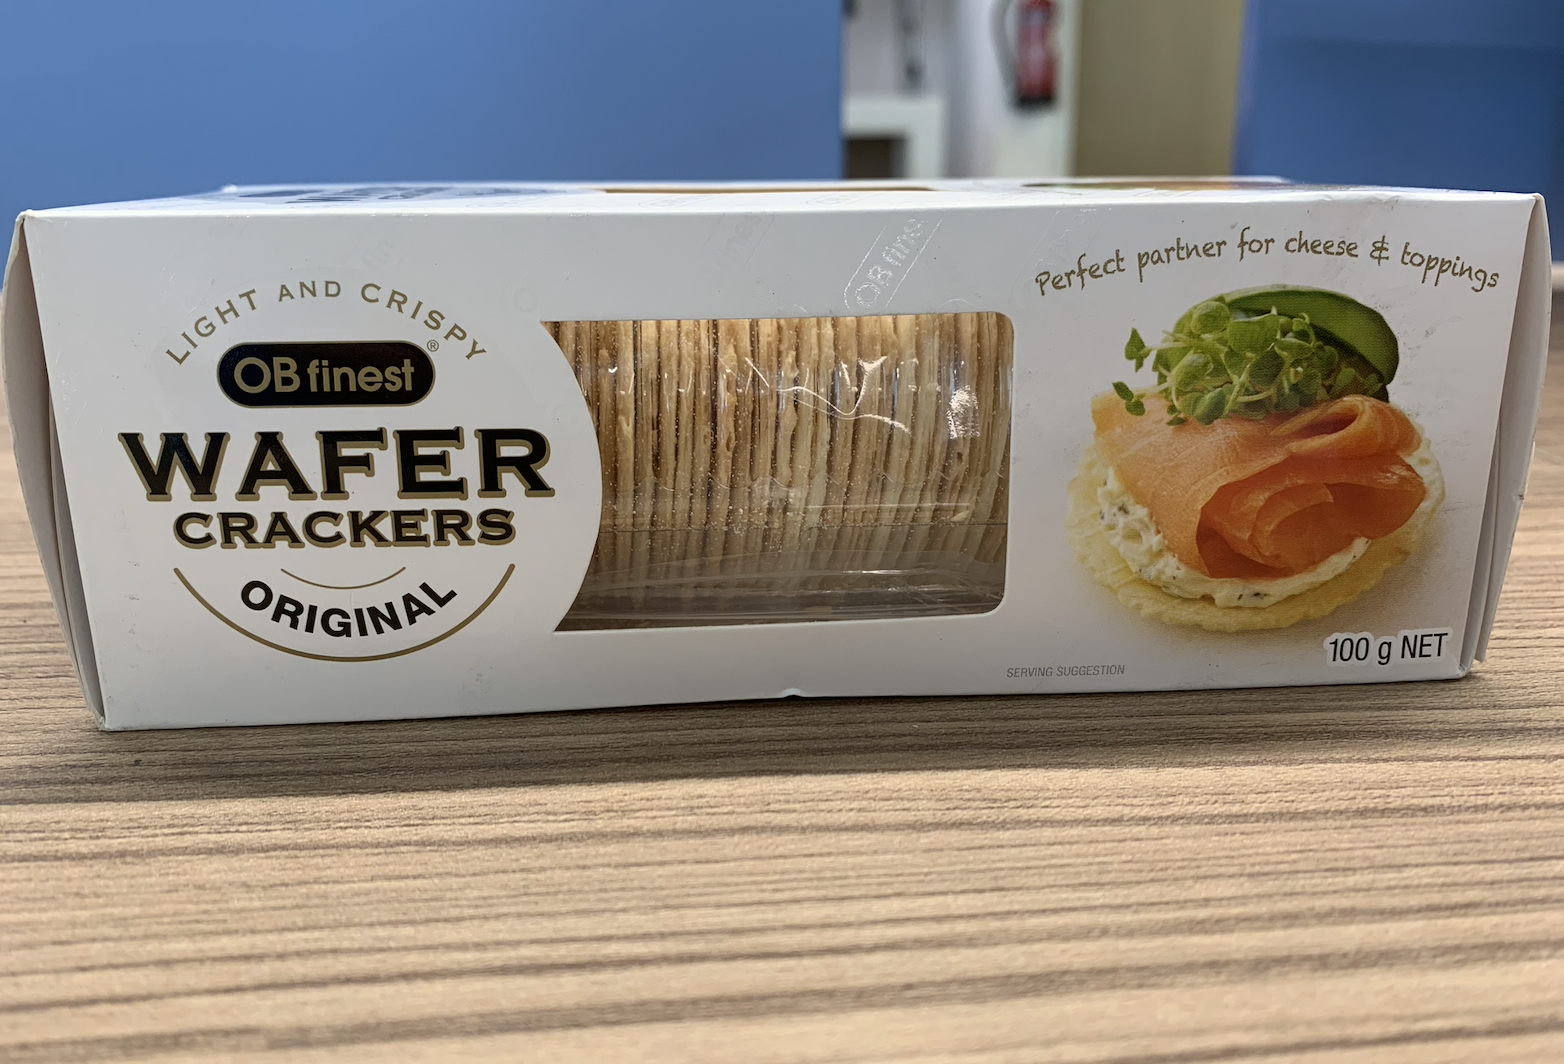crackers_150g: (113, 229, 1474, 670)
